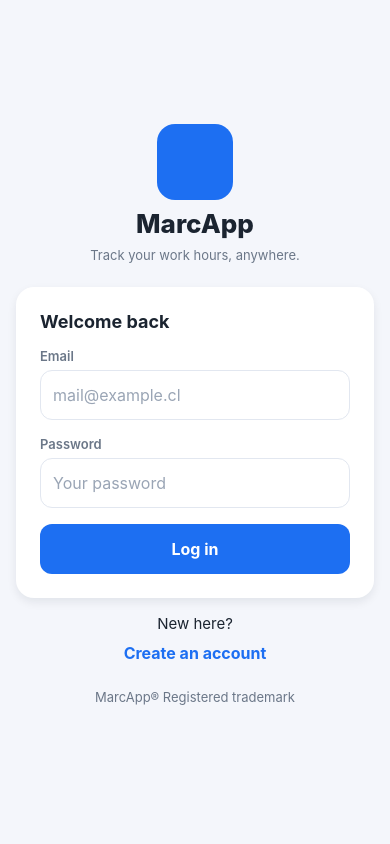
Test: Login › muestra el error del servidor y no navega
Type "ana@test.cl" into the field with placeholder "mail@example.cl" at (195, 394), box left=53, top=374, right=337, bottom=414
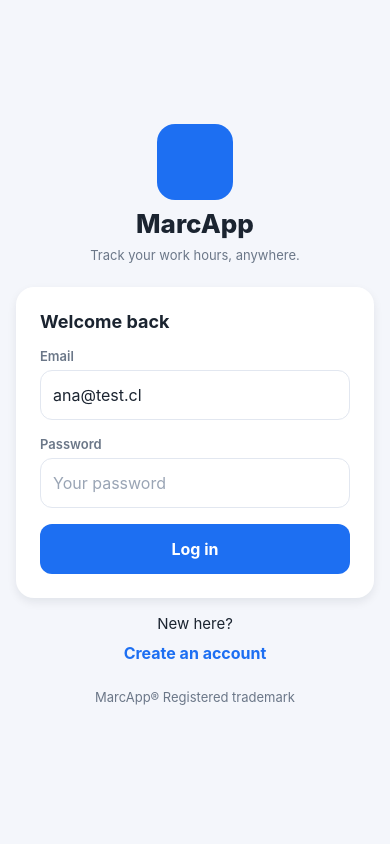
Type "mala" into the password field with placeholder "Your password" at (191, 482), box left=53, top=462, right=329, bottom=502
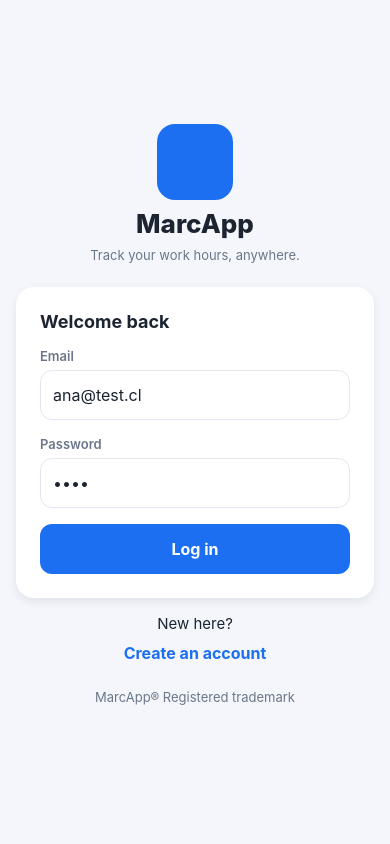
Click the button "Log in" at (195, 548), box left=40, top=524, right=350, bottom=574
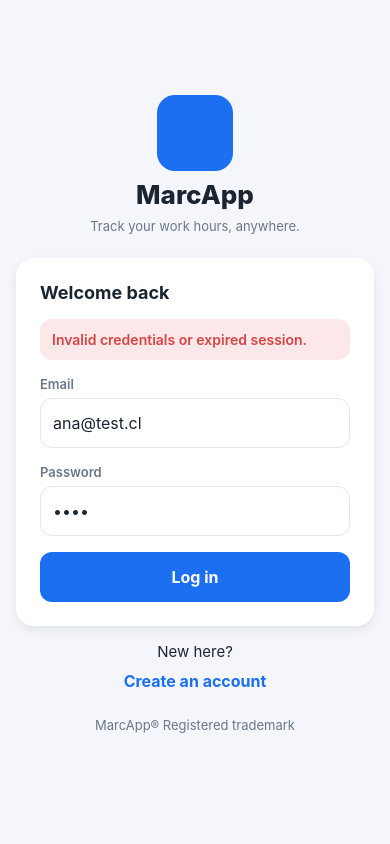
Expected: the text "Invalid credentials or expired session." is shown, left=52, top=331, right=338, bottom=348
